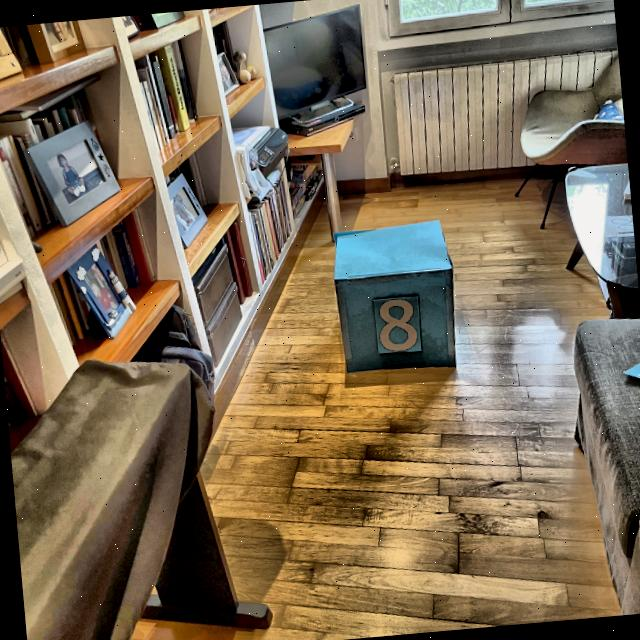blue box: (330, 216, 462, 378)
eight: (376, 296, 420, 352)
